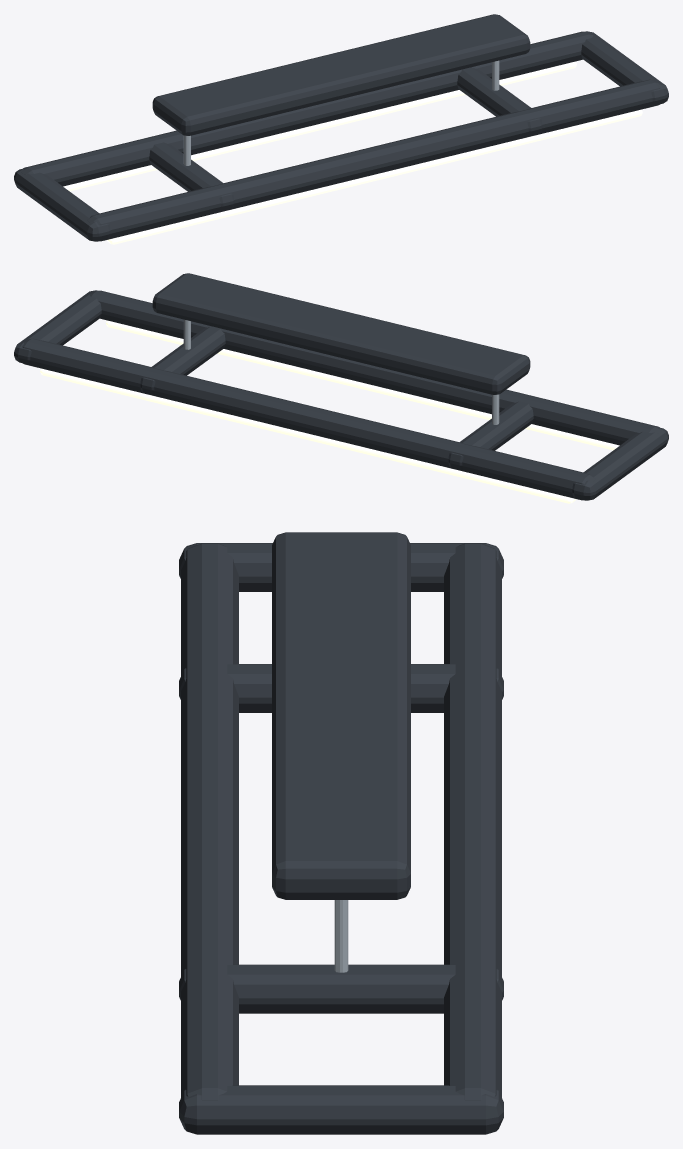
Rendered from ceiling-light.glb.
The picture shows the model from 3 angles, top to bottom: view 1: azimuth 30°, elevation 25°; view 2: azimuth 150°, elevation 25°; view 3: azimuth 270°, elevation 25°; orthographic projection. The views are drawn at different scales.
Visible parts, largest first — view 1: ceilingLight · Graphite metal, ceilingLight · Warm diffuser, ceilingLight · Brushed aluminum; view 2: ceilingLight · Graphite metal, ceilingLight · Warm diffuser, ceilingLight · Brushed aluminum; view 3: ceilingLight · Graphite metal, ceilingLight · Brushed aluminum.
Part boxes in pixels (left/top/right/bottom): ceilingLight · Graphite metal: left=14, top=14, right=668, bottom=241; ceilingLight · Warm diffuser: left=63, top=61, right=642, bottom=244; ceilingLight · Brushed aluminum: left=183, top=60, right=499, bottom=165; ceilingLight · Graphite metal: left=14, top=273, right=668, bottom=500; ceilingLight · Warm diffuser: left=40, top=320, right=619, bottom=503; ceilingLight · Brushed aluminum: left=183, top=319, right=499, bottom=424; ceilingLight · Graphite metal: left=179, top=532, right=503, bottom=1134; ceilingLight · Brushed aluminum: left=334, top=900, right=348, bottom=972.
Bounding box in the file's own units: 1.74 × 0.256 × 0.42.
